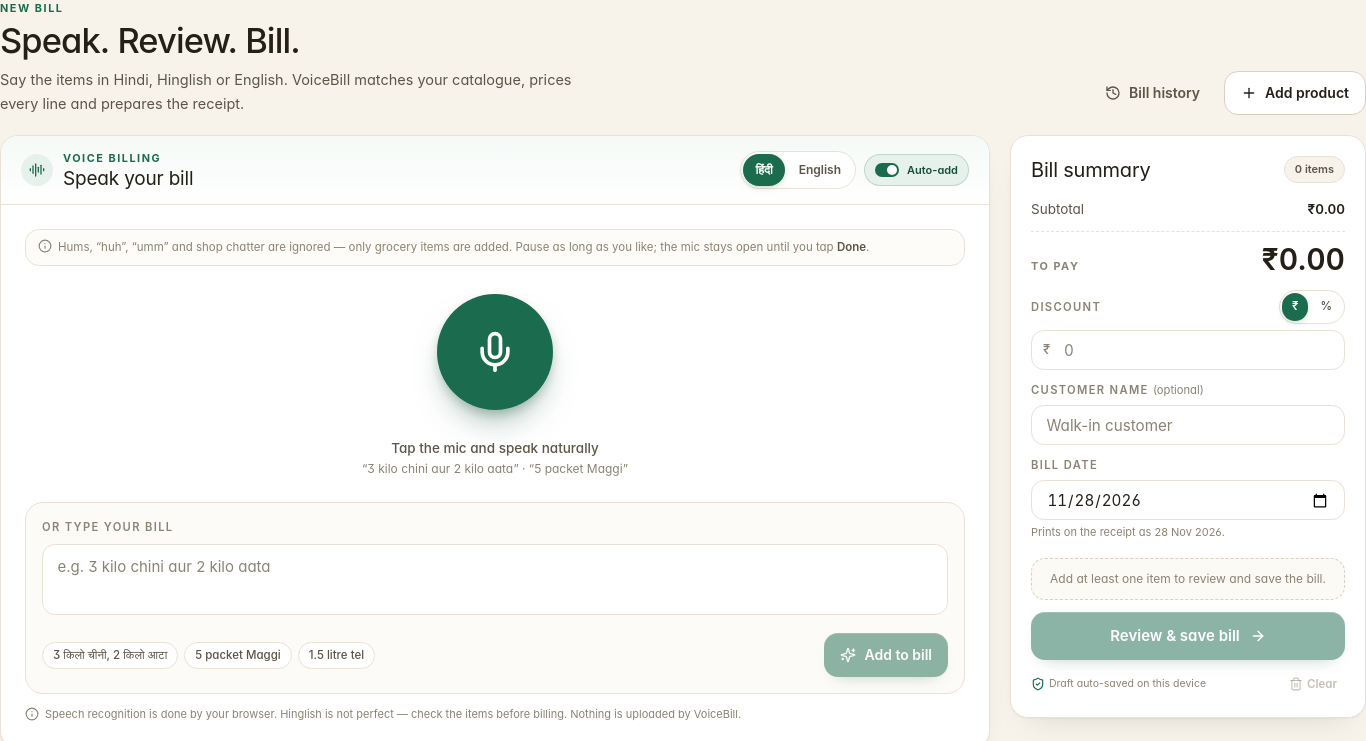
new bill workspace › adds a typed item, prices it from the catalogue and saves a bill
Step 1. Type "2 kilo chini" into the text box labelled "Or type your bill" → (495, 580), box x1=42 y1=544 x2=948 y2=615
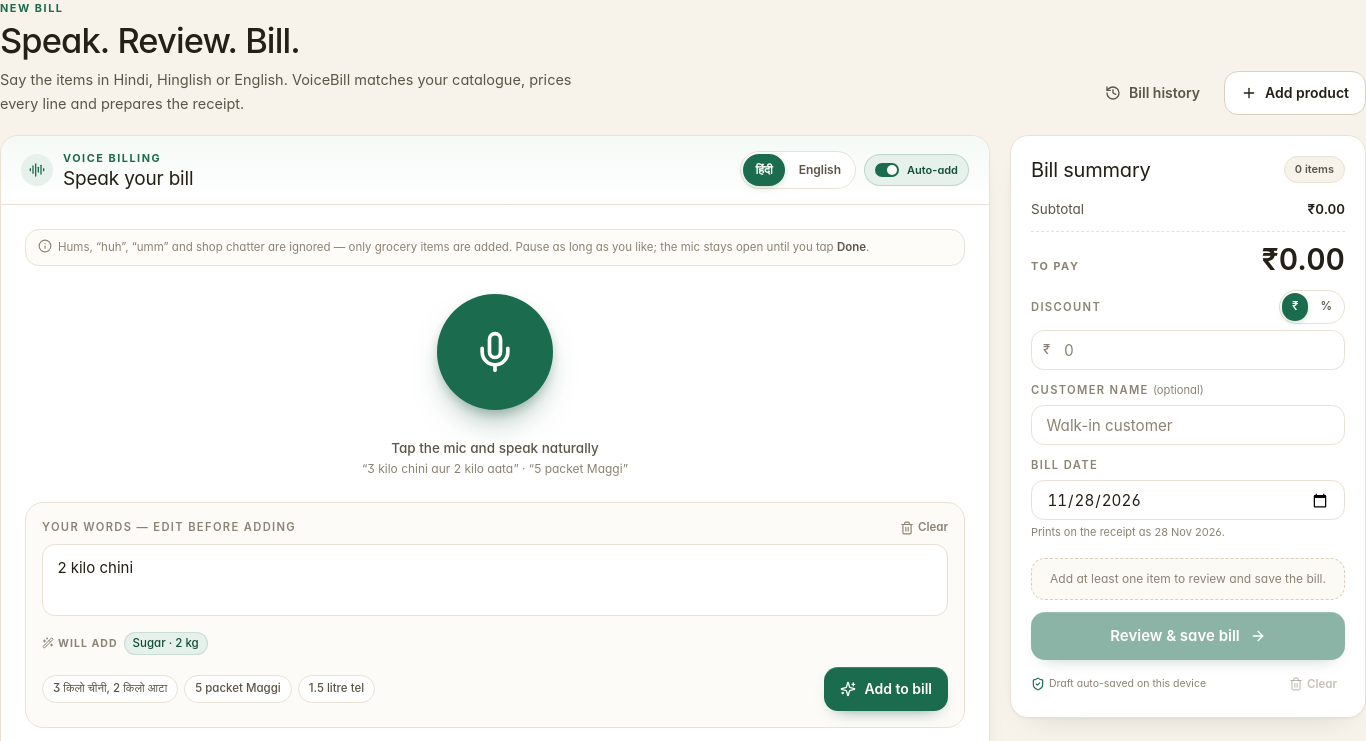
Step 2. Click the button "Add to bill" → (886, 689), box x1=824 y1=667 x2=948 y2=711
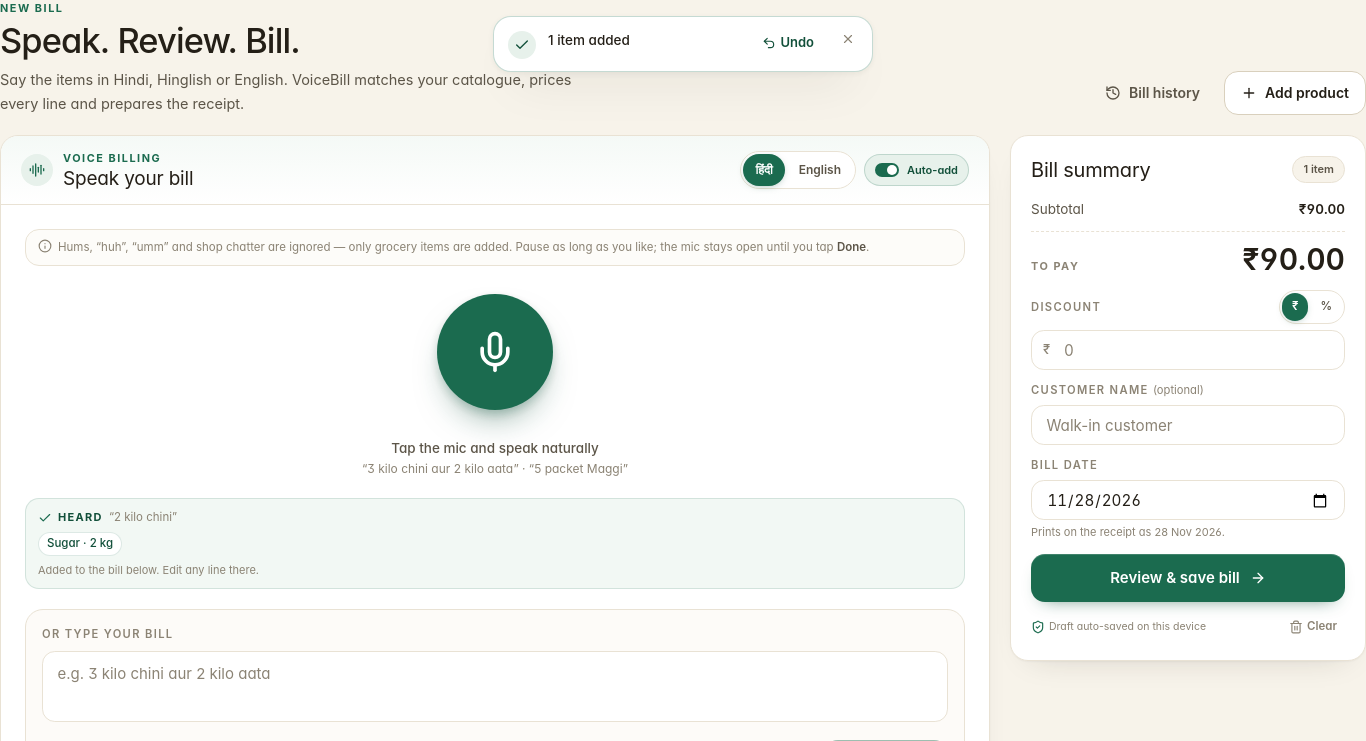
Step 3. Click the button "Review & save bill" → (1188, 578), box x1=1031 y1=554 x2=1345 y2=602
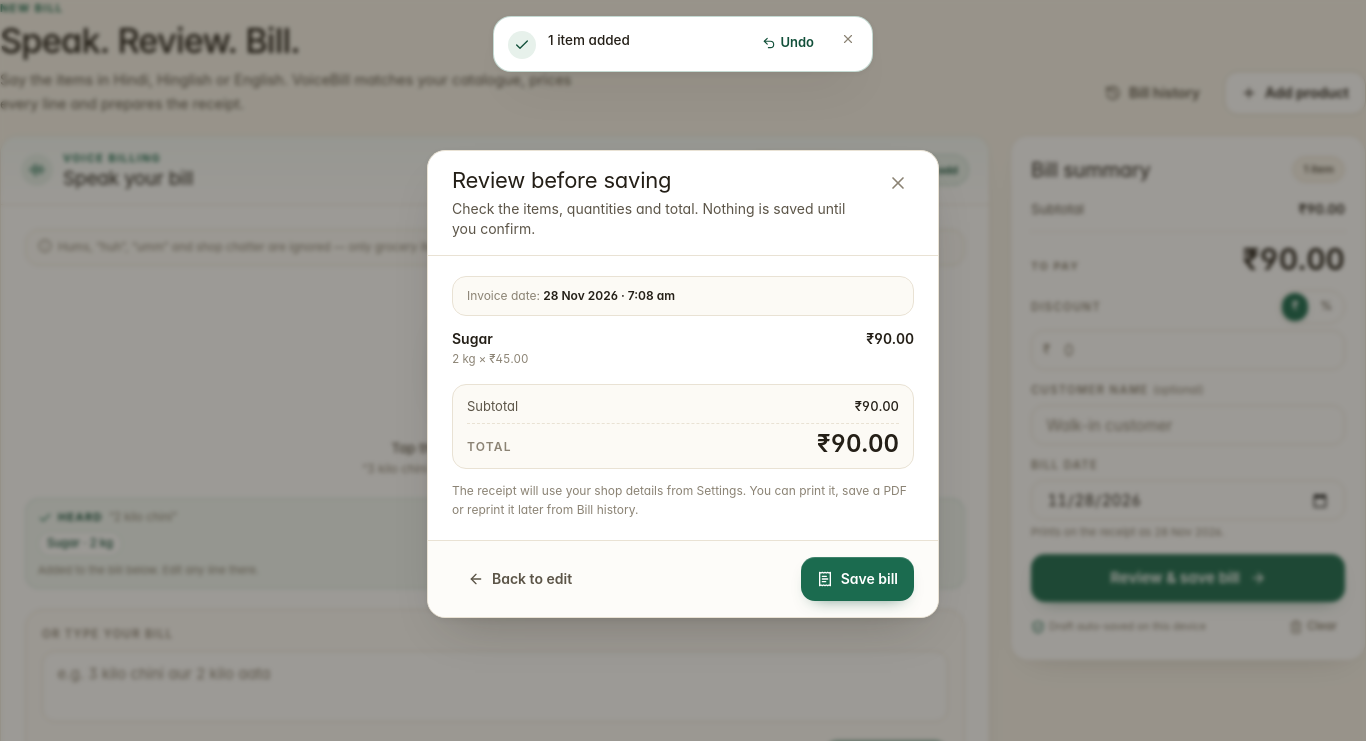
expect the heading "Review before saving" is shown: met, box x1=452 y1=167 x2=671 y2=193
Step 4. Click the button "Save bill" → (857, 579), box x1=801 y1=557 x2=914 y2=601
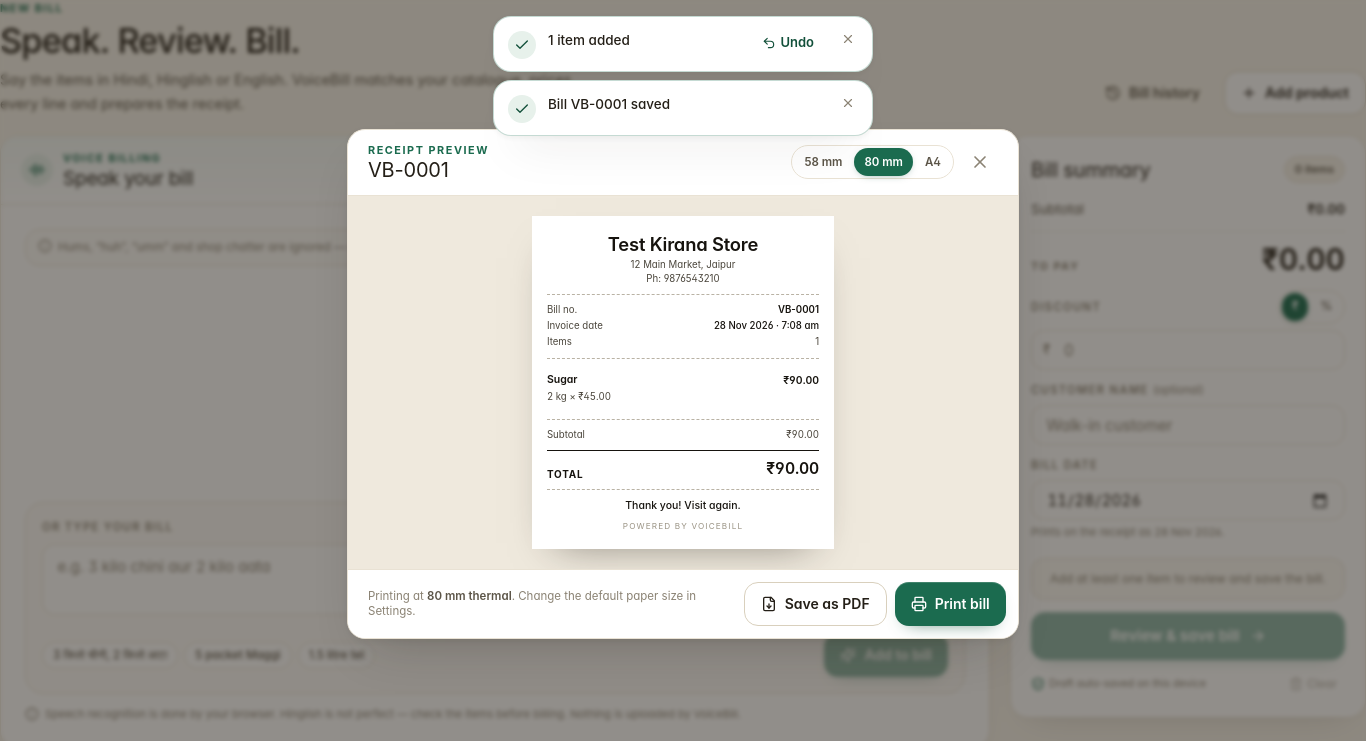
expect the dialog named "receipt vb-0001" is shown: met, box x1=347 y1=129 x2=1019 y2=640
expect the heading "VB-0001" is shown: met, box x1=368 y1=158 x2=449 y2=182
